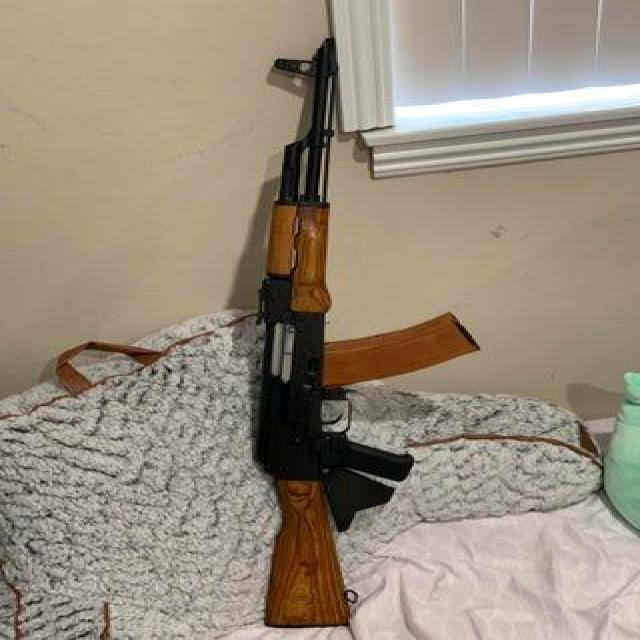ak: (232, 38, 490, 630)
